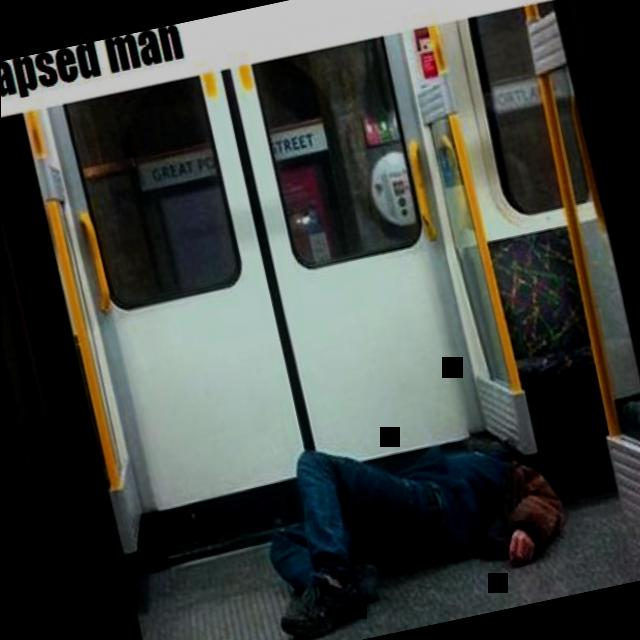Fall-Detected: (226, 391, 586, 640)
